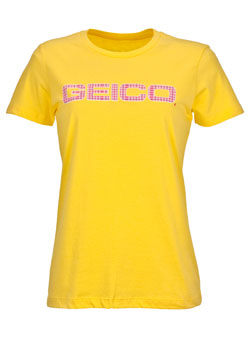Geico: (61, 72, 182, 107)
